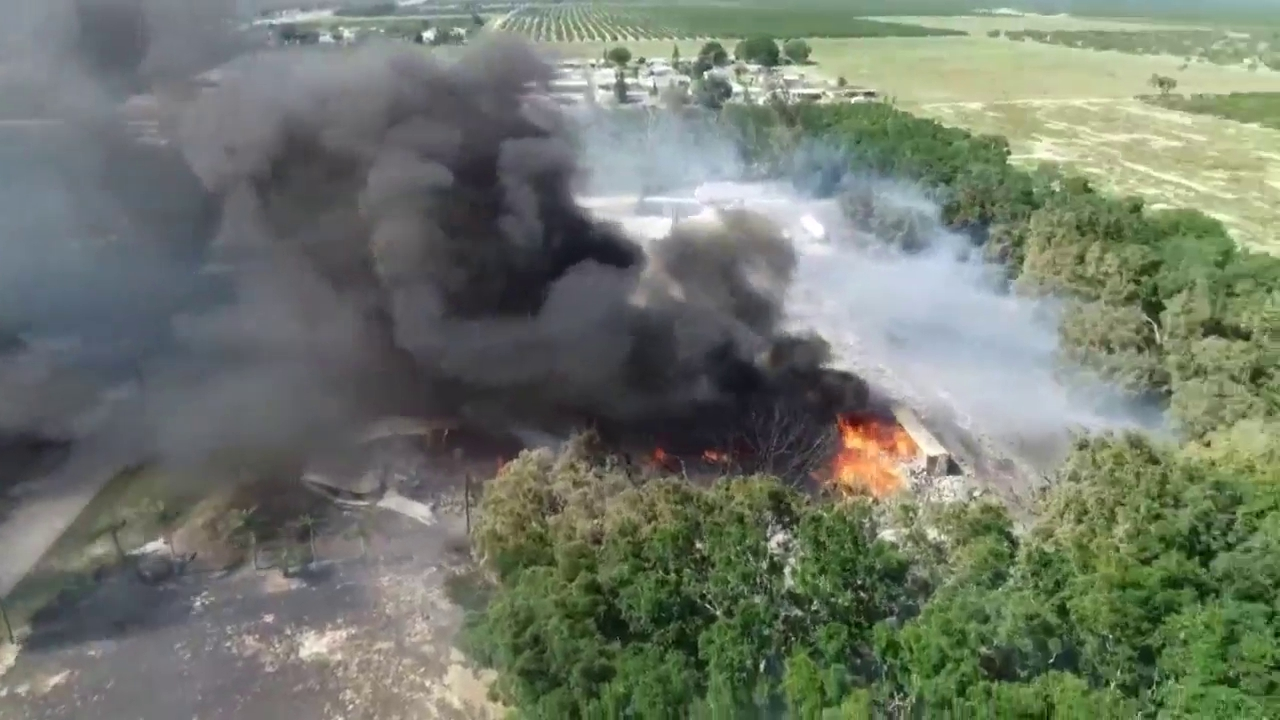forest_fire: (830, 415, 919, 497)
